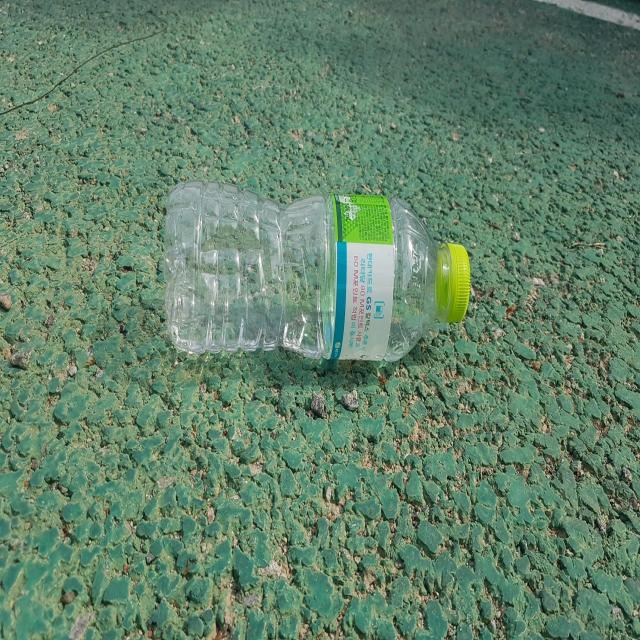plastic: (164, 180, 471, 360)
